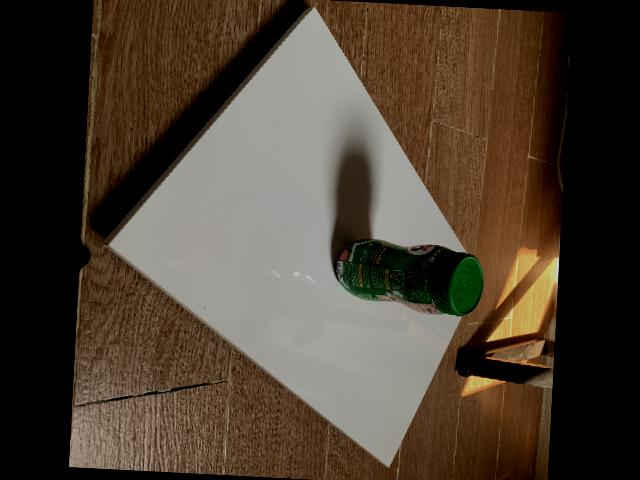milo: (334, 238, 483, 317)
